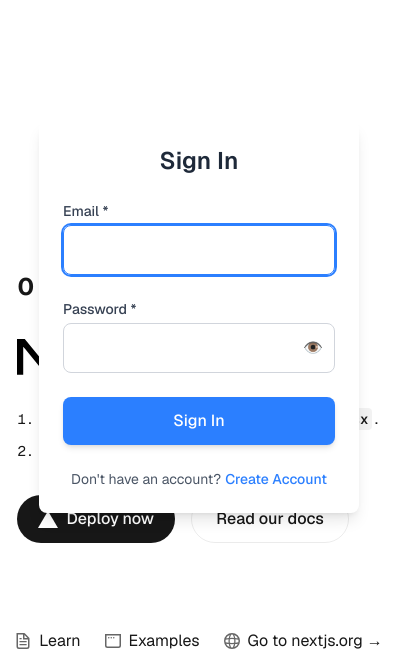
it: Home Page - End-to-End Sign-In Flow › should handle login failure
The width and height of the screenshot is (397, 668).
Step 1. Type "wrong@example.com" into the field labelled "Email *" → (199, 250), box [63,225,335,275]
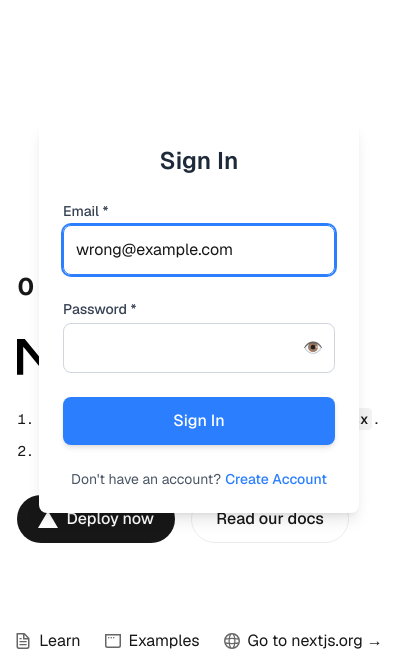
Step 2. Type "Wr0ngPass!" into the password field with test id "password-input" → (199, 348), box [63,323,335,373]
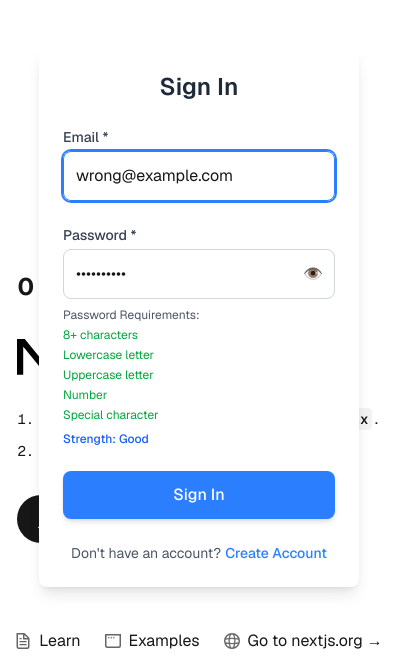
Step 3. Click the button "Sign In" → (199, 495), box [63,471,335,519]
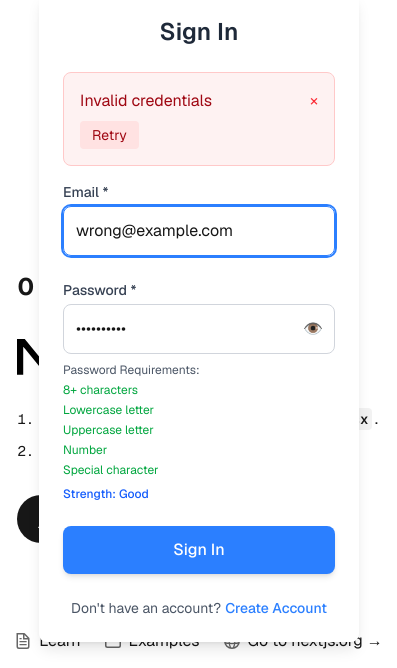
Expected: the heading "Sign In" is shown, [160,16,238,47]
Result: the text "Invalid credentials" is shown at [80,89,212,113]
